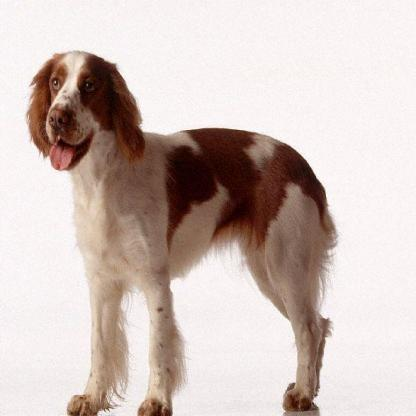Welsh_springer_spaniel: (25, 46, 337, 413)
